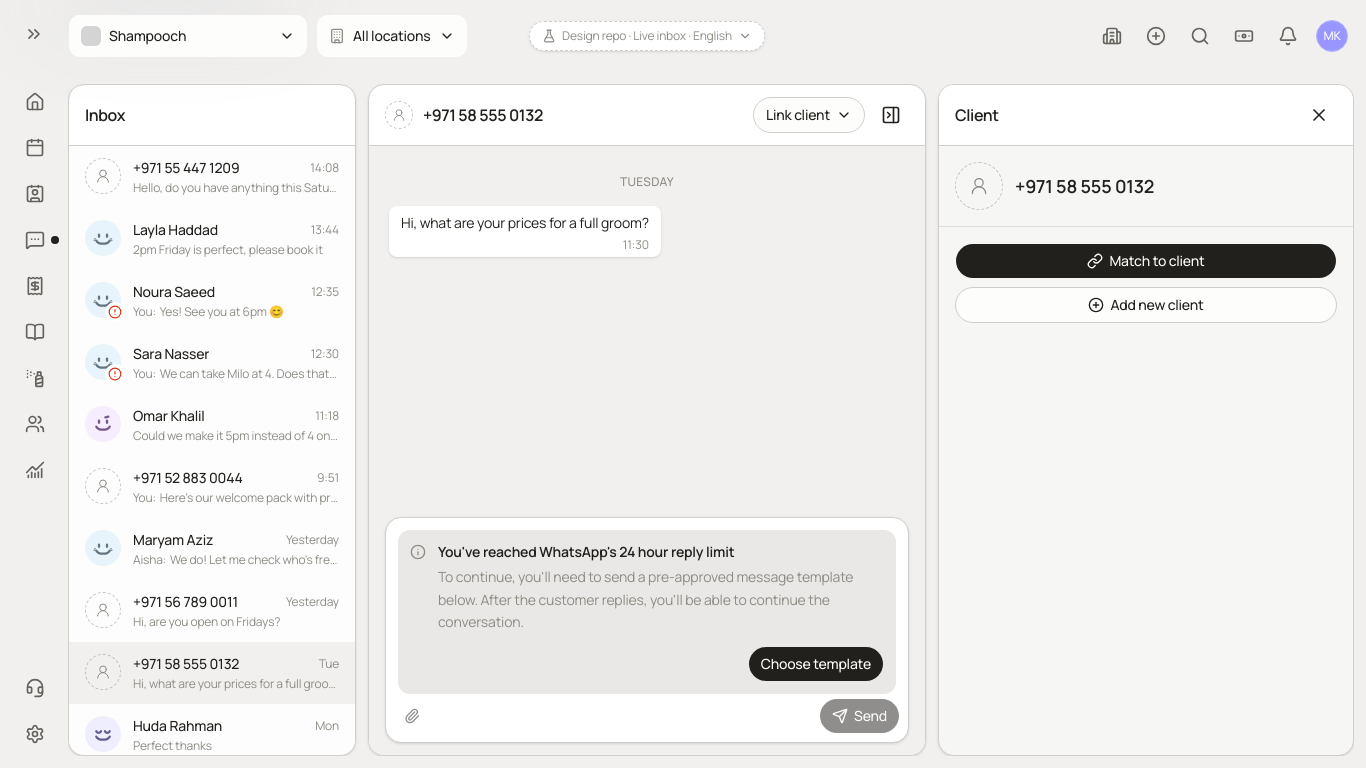
Scenario: Inbox Phase 0 — identity (IX-C3, IX-C4) › IX-C4 row 5: a number already on a client offers Match instead, never a second client
The width and height of the screenshot is (1366, 768).
Click the button "Add new client".
click(1146, 305)  # box [955,287,1337,323]
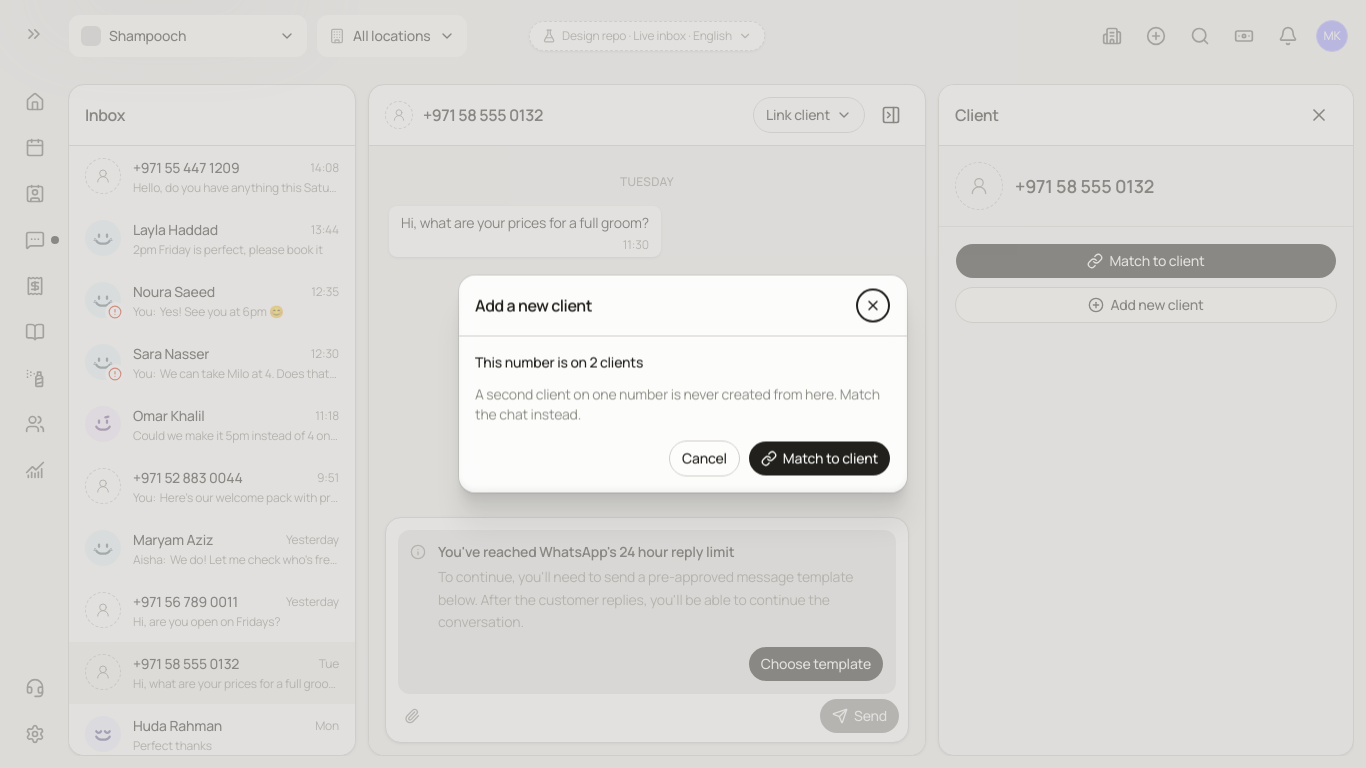
Expected: the text "This number is on 2 clients" is shown, [475,352,643,372]
Expected: the button "Match to client" is shown, [748,440,891,476]
